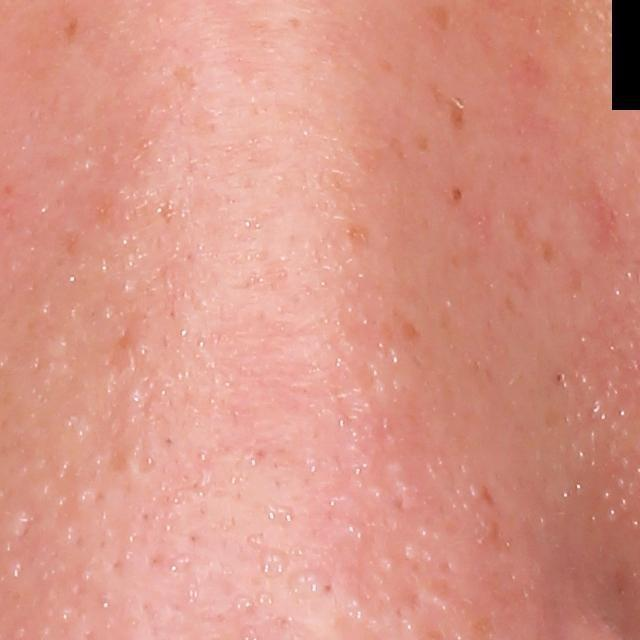melasma: (418, 2, 457, 37), (443, 94, 474, 135), (343, 219, 374, 248), (395, 316, 427, 342), (61, 10, 84, 39), (539, 235, 558, 264), (447, 184, 466, 204), (415, 132, 431, 154)
